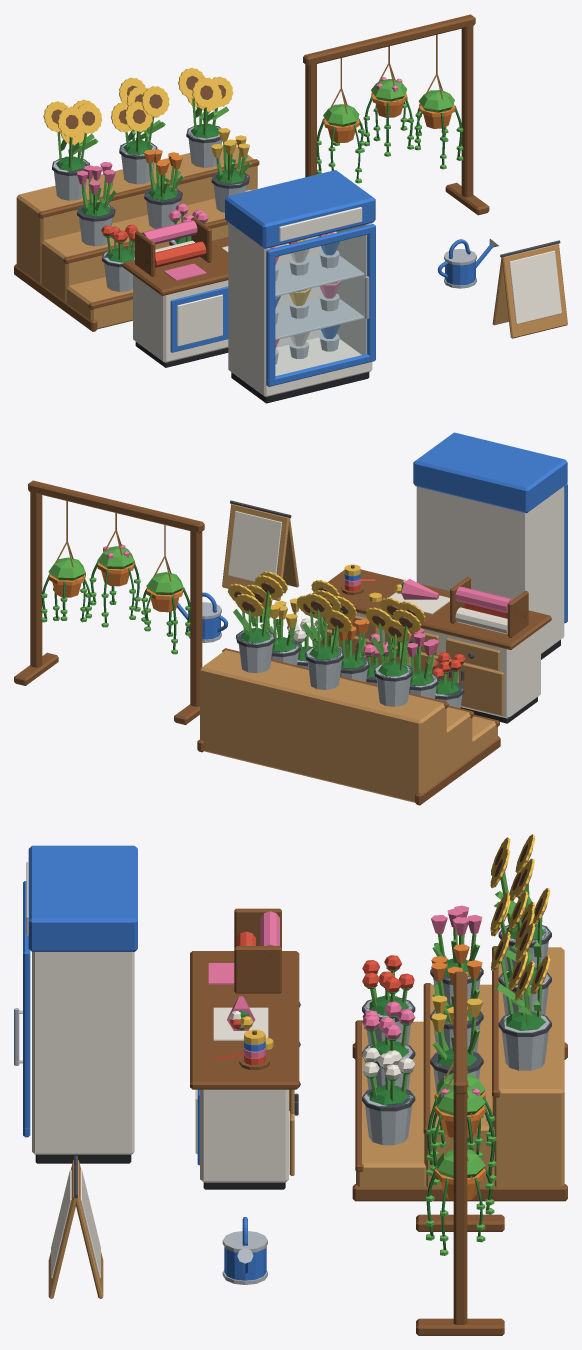
Rendered from low-poly-flower-shop.glb.
The picture shows the model from 3 angles, top to bottom: view 1: azimuth 30°, elevation 25°; view 2: azimuth 150°, elevation 25°; view 3: azimuth 270°, elevation 25°; orthographic projection. The views are drawn at different scales.
Parts seen in each view (by area): view 1: FlowerStand, FlowerCooler, Door, Counter, HangingPlants, Sign_Blank, WateringCan; view 2: FlowerStand, FlowerCooler, HangingPlants, Counter, Sign_Blank, CabinetDoor_1, Drawer_1, WateringCan, Door; view 3: FlowerStand, FlowerCooler, Counter, HangingPlants, Sign_Blank, WateringCan, Door.
Boxes of the visible parts, left/top/right/bottom form: FlowerStand: left=14, top=67, right=259, bottom=331; FlowerCooler: left=225, top=170, right=375, bottom=403; Door: left=266, top=224, right=375, bottom=386; Counter: left=122, top=217, right=228, bottom=367; HangingPlants: left=303, top=14, right=489, bottom=215; Sign_Blank: left=492, top=240, right=567, bottom=338; WateringCan: left=437, top=239, right=498, bottom=288; FlowerStand: left=197, top=571, right=500, bottom=805; FlowerCooler: left=413, top=432, right=567, bottom=659; HangingPlants: left=14, top=480, right=204, bottom=724; Counter: left=312, top=564, right=551, bottom=723; Sign_Blank: left=222, top=500, right=299, bottom=600; CabinetDoor_1: left=459, top=663, right=503, bottom=715; Drawer_1: left=446, top=638, right=500, bottom=670; WateringCan: left=177, top=592, right=228, bottom=642; Door: left=564, top=484, right=567, bottom=623; FlowerStand: left=352, top=834, right=567, bottom=1201; FlowerCooler: left=26, top=845, right=137, bottom=1163; Counter: left=190, top=908, right=299, bottom=1189; HangingPlants: left=416, top=971, right=504, bottom=1335; Sign_Blank: left=48, top=1155, right=103, bottom=1298; WateringCan: left=222, top=1217, right=267, bottom=1284; Door: left=14, top=881, right=30, bottom=1137.
Bounding box in the file's own units: 19.41 × 8.2 × 16.21.
